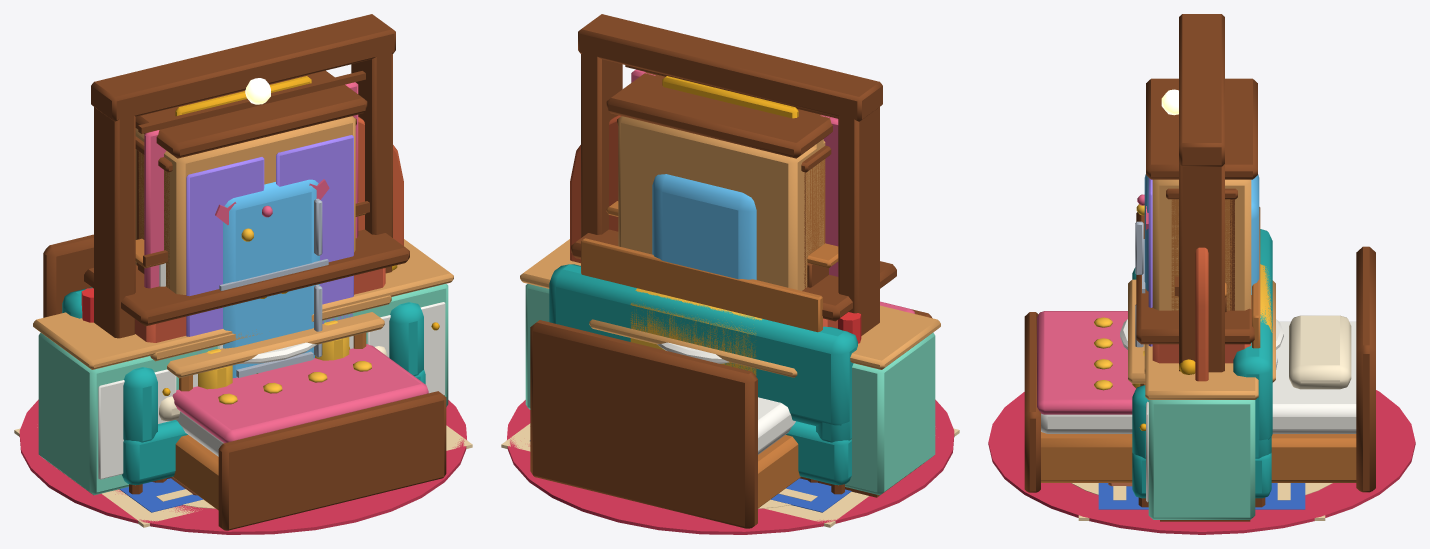
The model's file is cottage-furniture.glb.
3 views of the same model, side by side, from view 1: azimuth 30°, elevation 25°; view 2: azimuth 150°, elevation 25°; view 3: azimuth 270°, elevation 25° (orthographic). The views are drawn at different scales.
Parts seen in each view (by area): view 1: bed, door_frame, wardrobe, counter, fridge, rug_round, fireplace, sofa, window, dining_table, rug_rect, bookshelf (+7 smaller); view 2: bed, door_frame, wardrobe, sofa, counter, rug_round, fridge, workbench, rug_rect, armchair, window, bookshelf (+6 smaller); view 3: bed, counter, door_frame, rug_round, wardrobe, sofa, fireplace, fridge, bookshelf, rug_rect, door, dining_table (+2 smaller).
Part boxes in pixels (left/top/right/bottom): bed: left=43, top=234, right=446, bottom=530; door_frame: left=91, top=14, right=395, bottom=338; wardrobe: left=135, top=70, right=367, bottom=354; counter: left=33, top=239, right=453, bottom=495; fridge: left=219, top=179, right=328, bottom=377; rug_round: left=19, top=399, right=466, bottom=534; fireplace: left=84, top=229, right=409, bottom=495; sofa: left=62, top=287, right=425, bottom=494; window: left=138, top=71, right=365, bottom=288; dining_table: left=167, top=312, right=384, bottom=391; rug_rect: left=14, top=425, right=472, bottom=527; bookshelf: left=135, top=116, right=356, bottom=288; bed: left=530, top=301, right=932, bottom=528; door_frame: left=578, top=14, right=882, bottom=335; wardrobe: left=606, top=72, right=832, bottom=290; sofa: left=549, top=264, right=857, bottom=494; counter: left=520, top=239, right=940, bottom=497; rug_round: left=507, top=399, right=954, bottom=534; fridge: left=652, top=174, right=756, bottom=279; workbench: left=581, top=238, right=822, bottom=482; rug_rect: left=501, top=423, right=959, bottom=527; armchair: left=630, top=288, right=762, bottom=375; window: left=625, top=65, right=838, bottom=276; bookshelf: left=617, top=116, right=831, bottom=288; bed: left=1024, top=246, right=1375, bottom=492; counter: left=1139, top=344, right=1258, bottom=521; door_frame: left=1161, top=14, right=1224, bottom=372; rug_round: left=988, top=390, right=1415, bottom=534; wardrobe: left=1146, top=78, right=1257, bottom=346; sofa: left=1132, top=229, right=1272, bottom=507; fireplace: left=1108, top=212, right=1254, bottom=486; fridge: left=1135, top=174, right=1259, bottom=347; bookshelf: left=1166, top=188, right=1237, bottom=310; rug_rect: left=1078, top=483, right=1325, bottom=520; door: left=1179, top=247, right=1208, bottom=381; dining_table: left=1128, top=279, right=1275, bottom=386.
Bounding box in the file's own units: 2.6 × 2.46 × 2.6.
